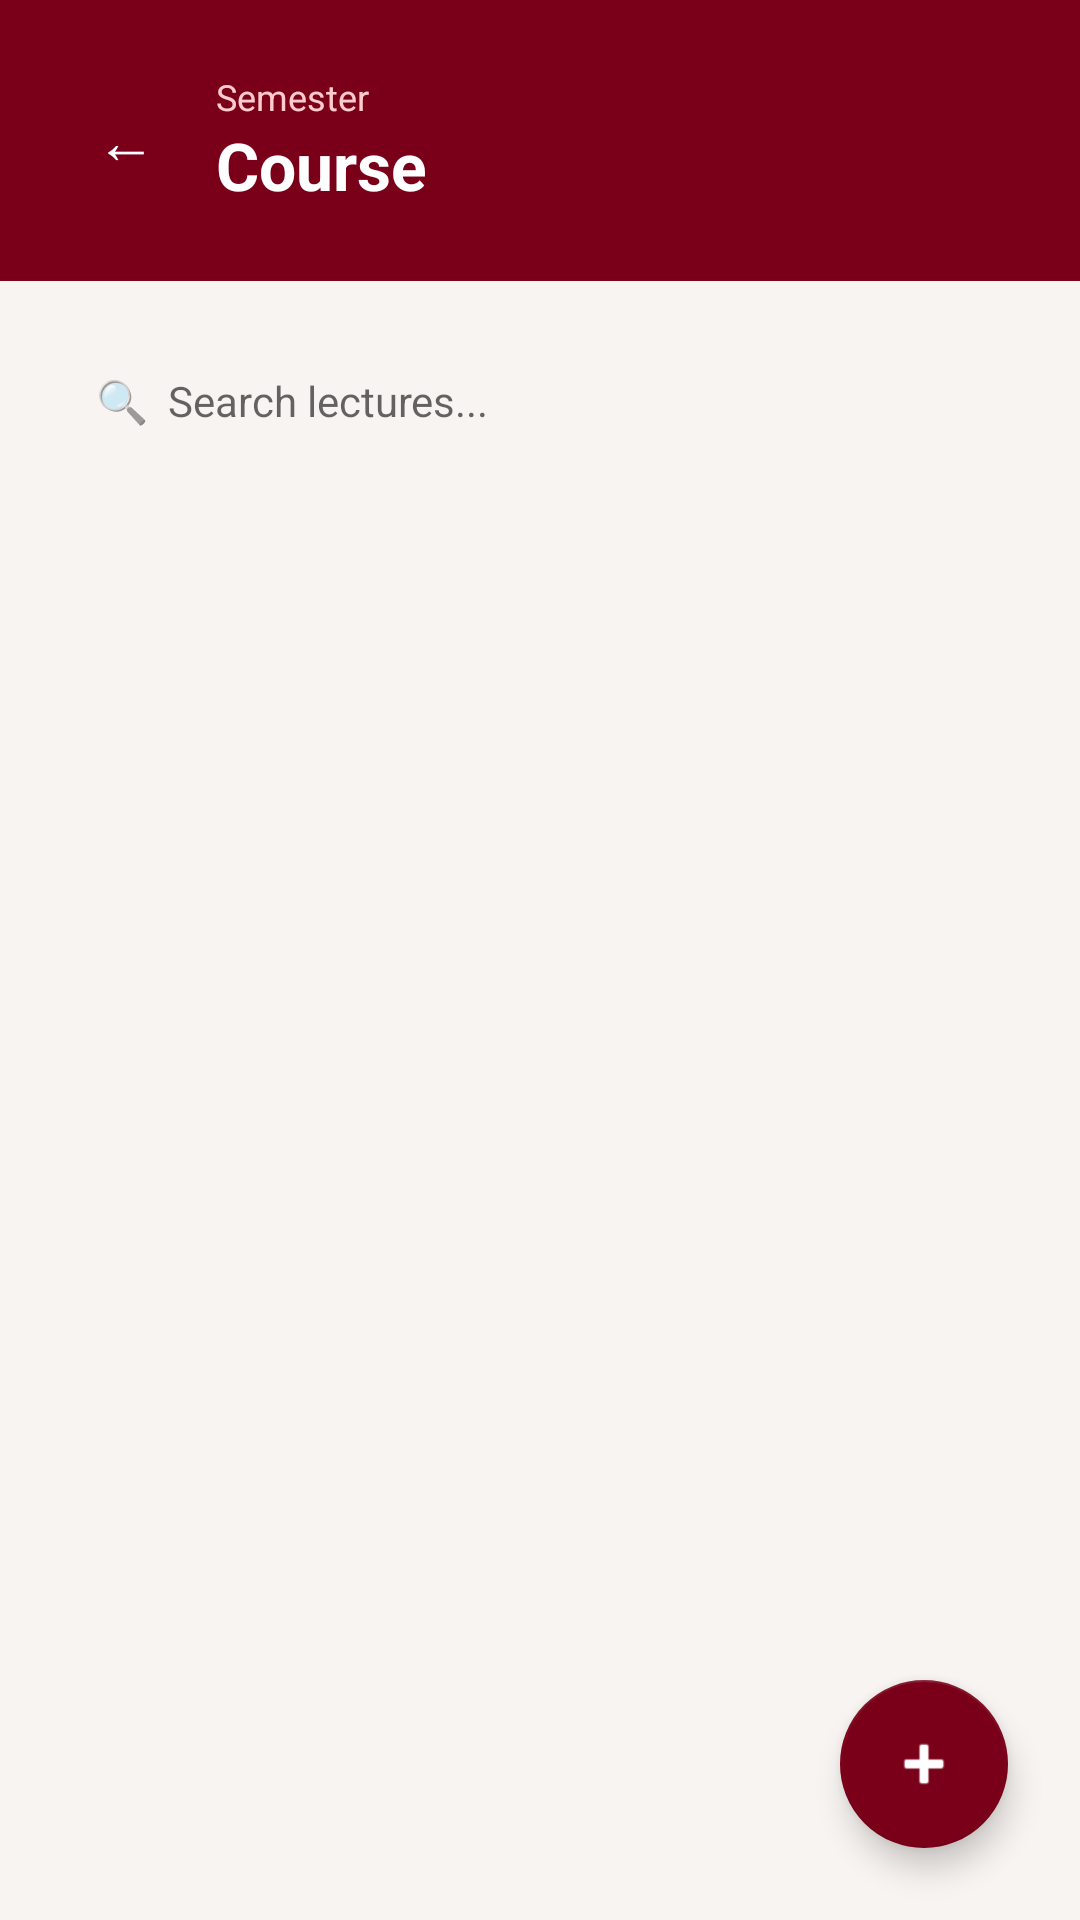

Screen size 1080 x 1920. Icon name, then its center in pixels as [x,y]:
Add Lecture: [924,1764]
